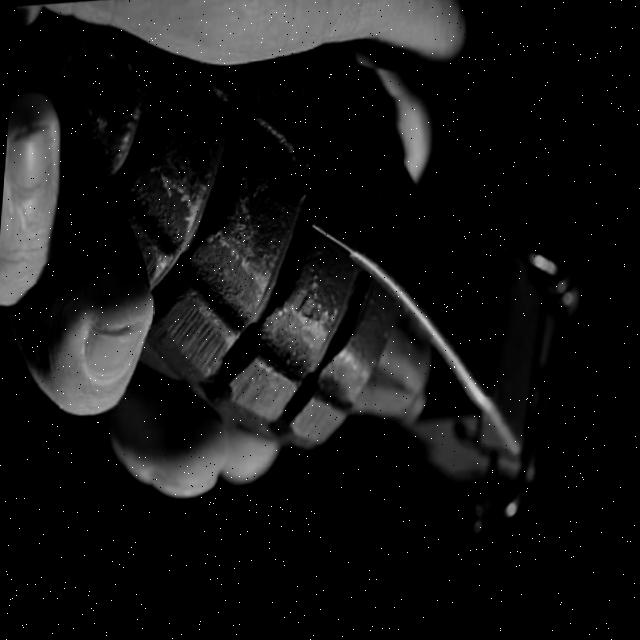grenade: (19, 0, 616, 587)
